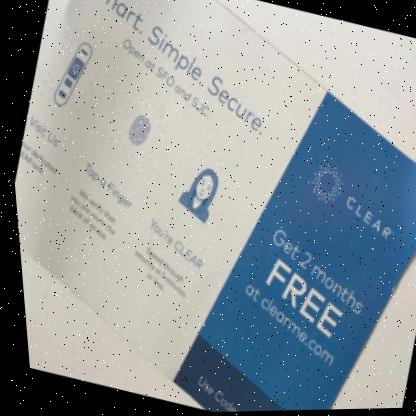Paper: (12, 0, 416, 413)
